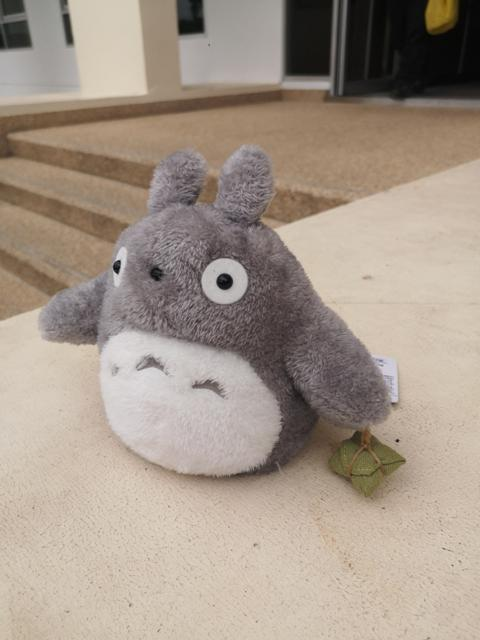totoro: (37, 140, 412, 502)
